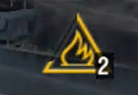2fire: (39, 36, 114, 78)
